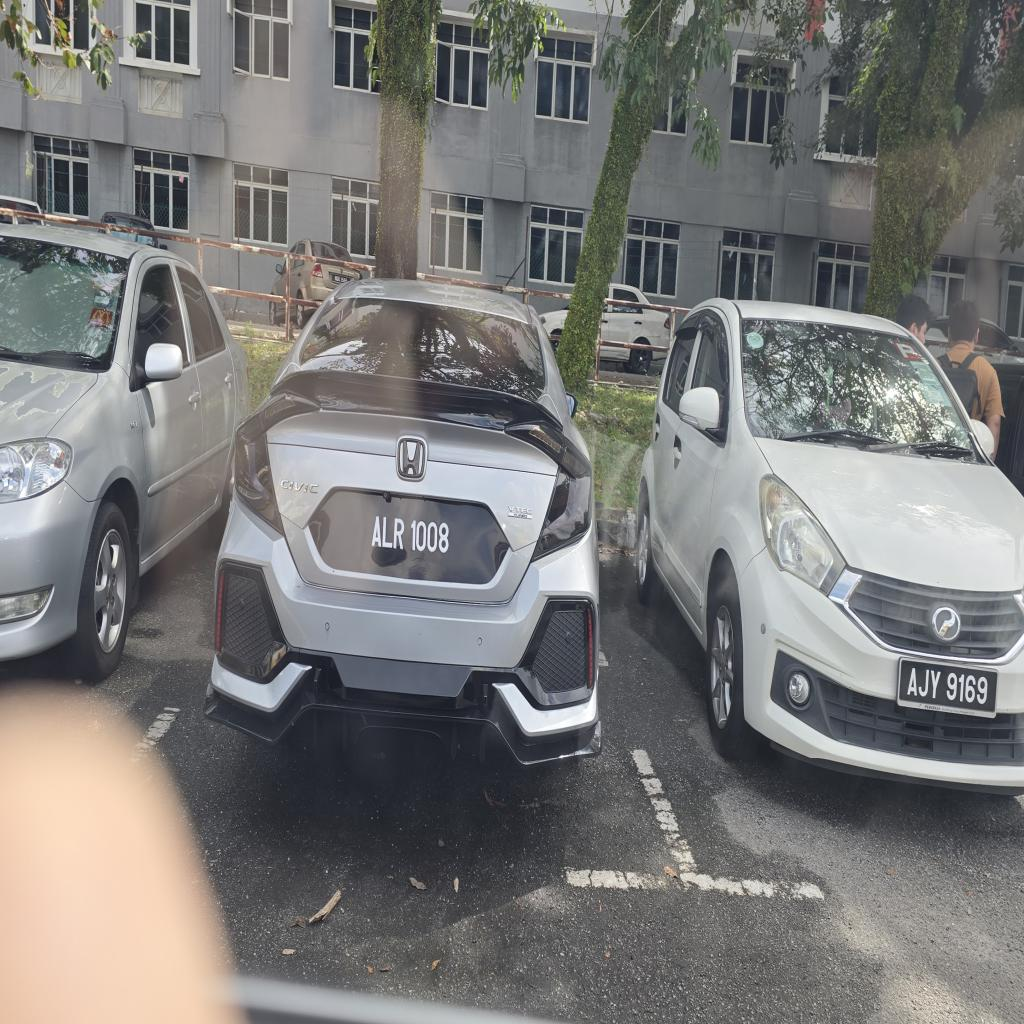car: (206, 280, 600, 763), (637, 300, 1023, 792)
car plate: (309, 489, 509, 584), (898, 659, 997, 717)
